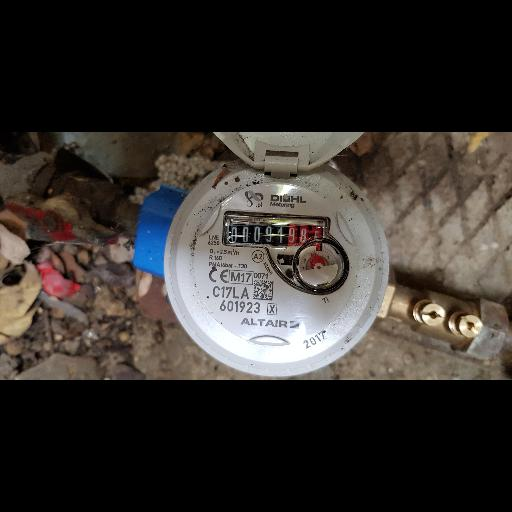0: (229, 224, 241, 244), (240, 225, 252, 245), (253, 225, 264, 245)
1: (276, 226, 287, 247)
5: (311, 226, 322, 241)
8: (298, 225, 310, 247)
9: (263, 226, 275, 246), (287, 226, 298, 247)
border_water_meter_number: (224, 215, 337, 248)
